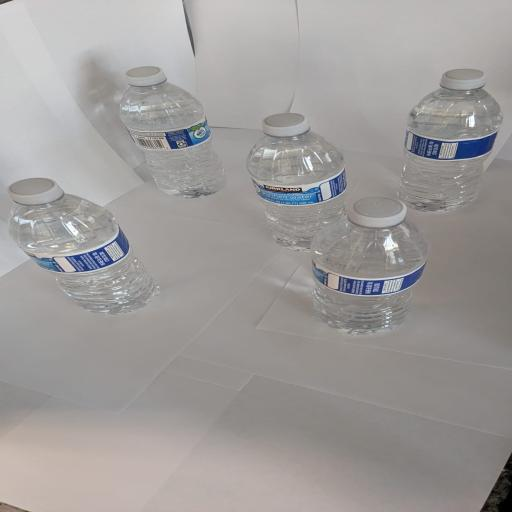waterbottle: (9, 178, 158, 313), (312, 198, 428, 333), (399, 70, 502, 211), (121, 67, 225, 197), (247, 114, 346, 250)
